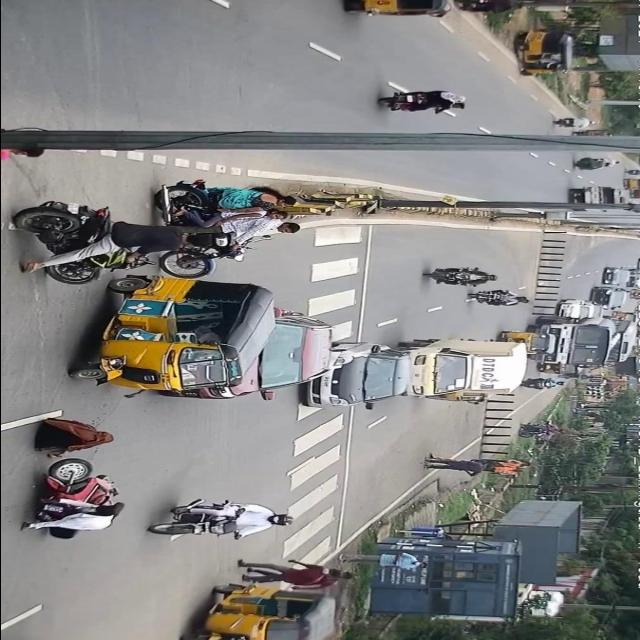accident: (5, 405, 132, 543)
non_accident: (291, 331, 545, 415), (526, 293, 623, 386), (586, 263, 634, 313), (618, 172, 640, 202)
